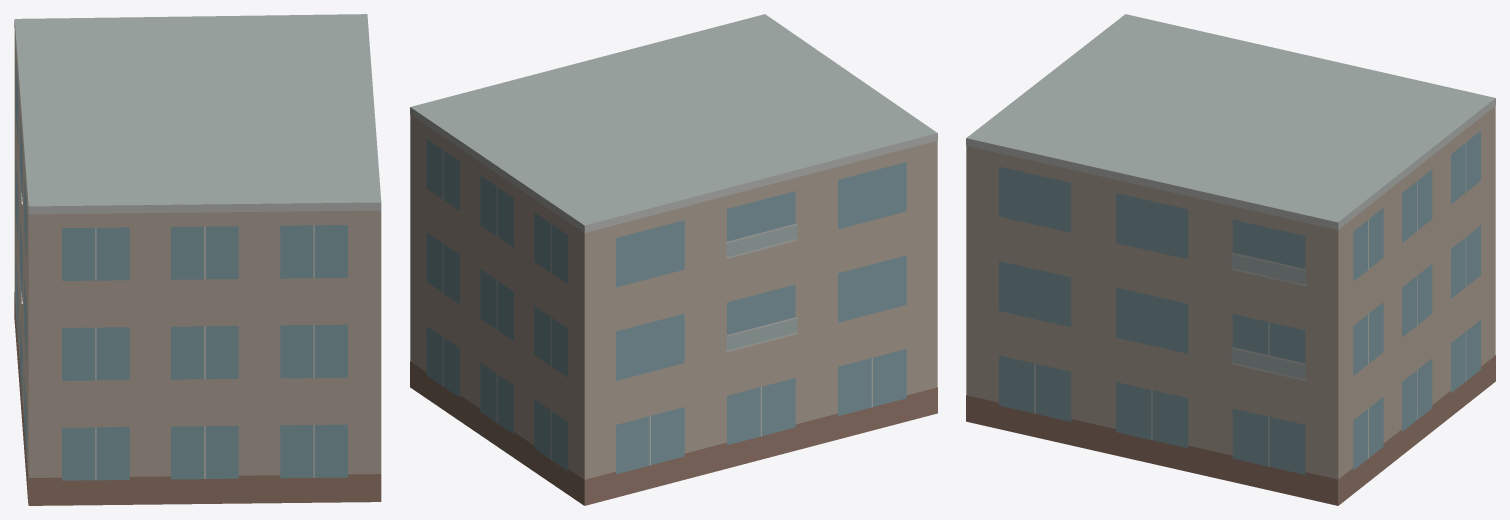
The model's file is survey-upis-32843718.glb.
The picture shows the model from 3 angles, left to right: view 1: azimuth 30°, elevation 25°; view 2: azimuth 150°, elevation 25°; view 3: azimuth 270°, elevation 25°; orthographic projection. The views are drawn at different scales.
Parts seen in each view (by area): view 1: survey-upis-32843718.tmp; view 2: survey-upis-32843718.tmp; view 3: survey-upis-32843718.tmp.
Boxes of the visible parts, <box> form: survey-upis-32843718.tmp: <box>14,14,381,505</box>; survey-upis-32843718.tmp: <box>410,14,937,505</box>; survey-upis-32843718.tmp: <box>966,14,1495,505</box>.
Size of the model in its own units: 14.36 by 9.1 by 15.42.
